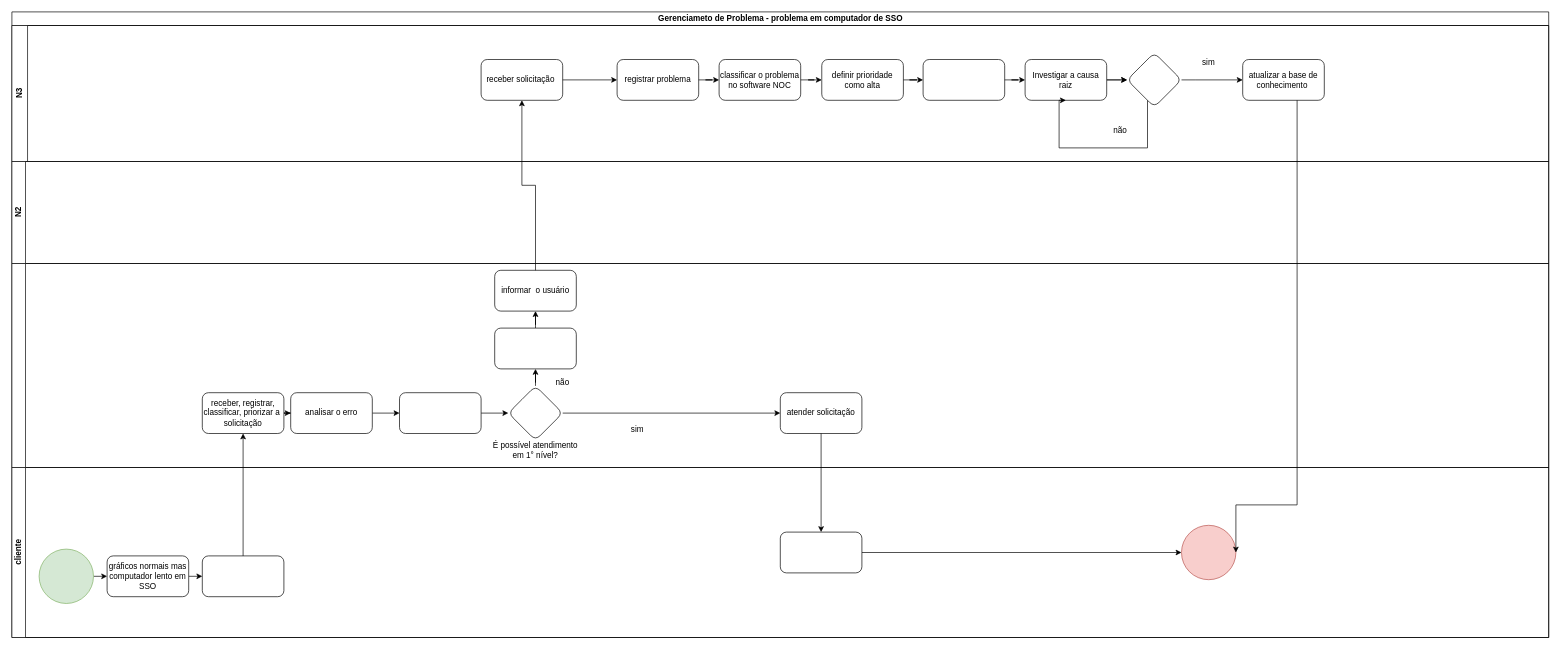
Some shapes in this 1561 by 649 pixel diagram are drawn without their labels. The shapes that lost their labels are listed below. From the top down, each one's box as (x1, y1, x2, y2) in pixels, then its label:
(922, 59, 1005, 100): solução de contorno: usar notebook temporário
(1126, 52, 1182, 107): problema resolvido?
(494, 327, 576, 369): escalonar atendimeneto para o segundo nível
(11, 263, 1549, 468): Central de Atendimento
(399, 392, 481, 434): consultar base de conhecimento
(780, 531, 862, 573): finalizar solicitação
(202, 555, 284, 597): solicitar serviço via central de atendimento
